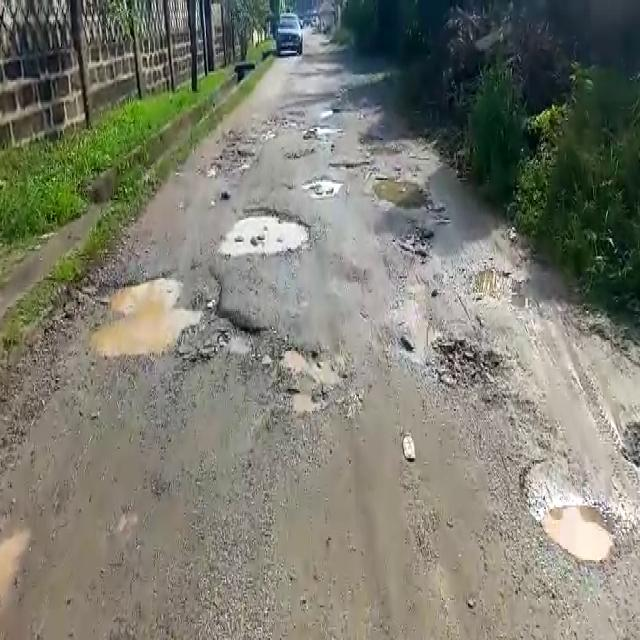Pothole: (81, 266, 220, 361), (534, 494, 618, 564), (429, 334, 513, 397), (217, 206, 314, 258), (277, 343, 350, 412), (470, 264, 530, 302), (373, 173, 433, 210), (393, 219, 437, 255), (306, 175, 348, 198), (328, 157, 376, 170)
